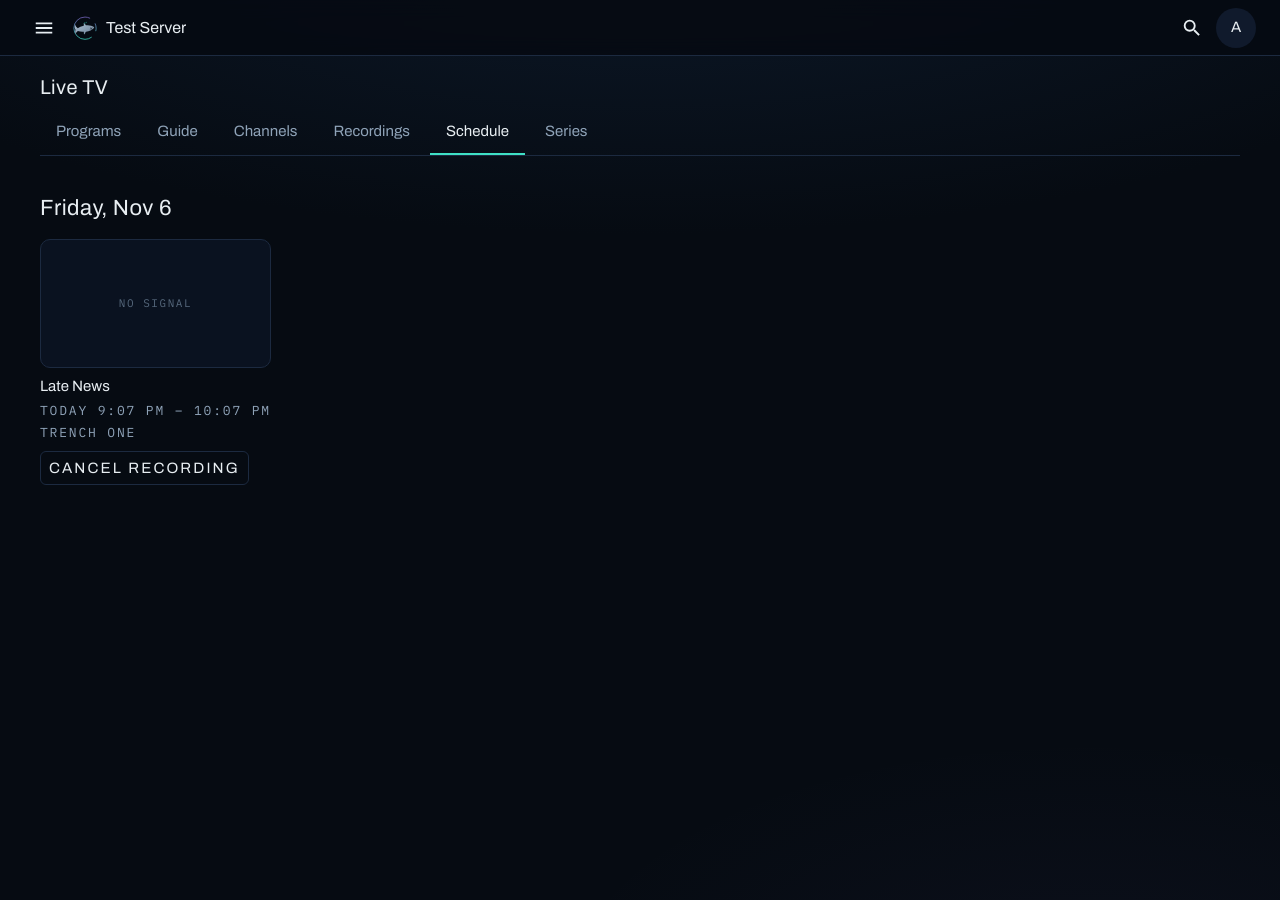
Test: recordings, schedule and series › Schedule lists timers by day and cancels one after asking
The image size is (1280, 900).
Expected: the link with test id "program-card" shows "Trench One", 40,238 -> 271,443
Click the button with aria-label "Cancel recording: Late News" at (144, 468), box 40,451 -> 249,485
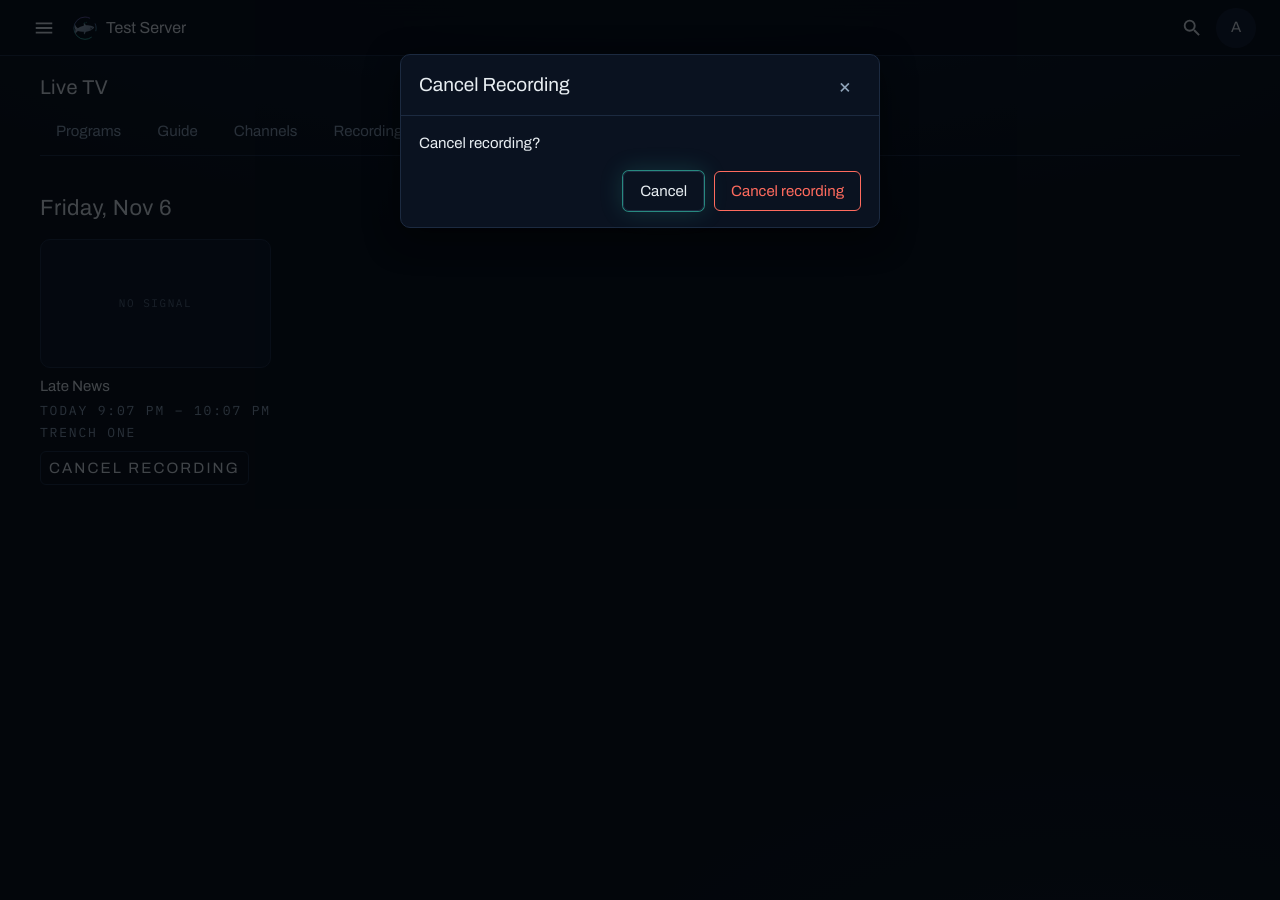
Expected: the text "Cancel recording?" is shown, 419,135 -> 541,151
Click the button "Cancel recording" at (788, 191), box 714,170 -> 861,211
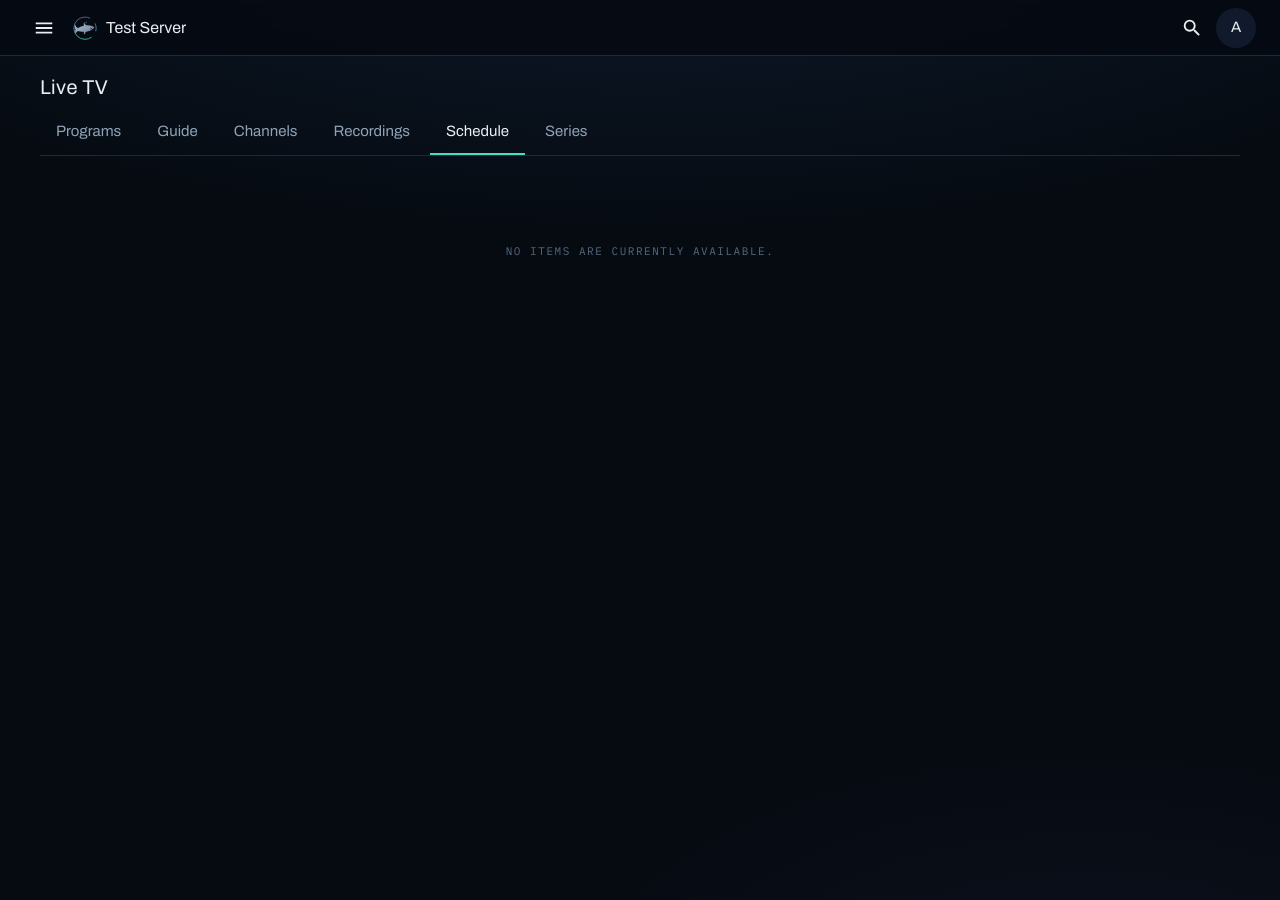
Expected: the text with test id "library-empty" reads "No Items are currently available.", 506,244 -> 774,258
